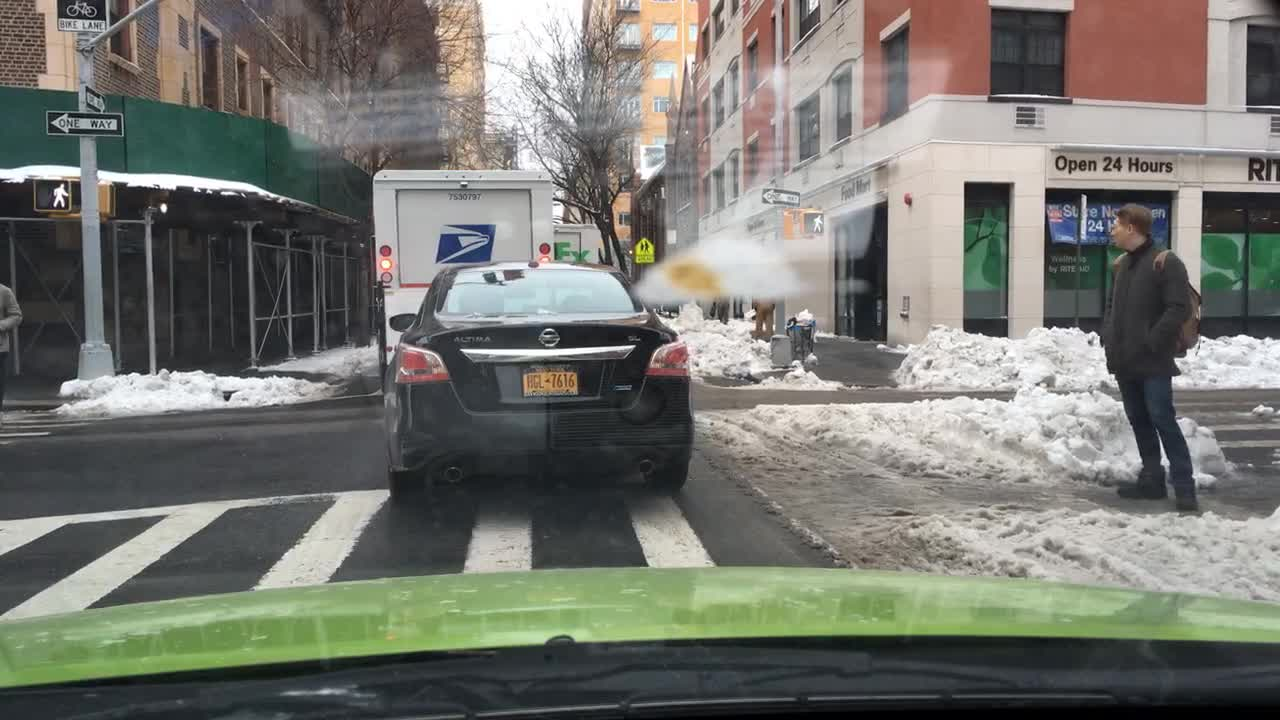car: (383, 258, 696, 507)
person: (1095, 202, 1208, 511), (0, 283, 27, 406), (749, 296, 779, 340), (708, 294, 730, 322)
traffic light: (30, 176, 72, 212), (796, 209, 827, 237), (98, 181, 117, 217), (778, 208, 793, 243)
traffic sign: (43, 111, 127, 136), (56, 0, 108, 33), (82, 84, 108, 112), (761, 188, 801, 205), (634, 237, 655, 264)
truck: (369, 167, 556, 390), (553, 222, 603, 266)
